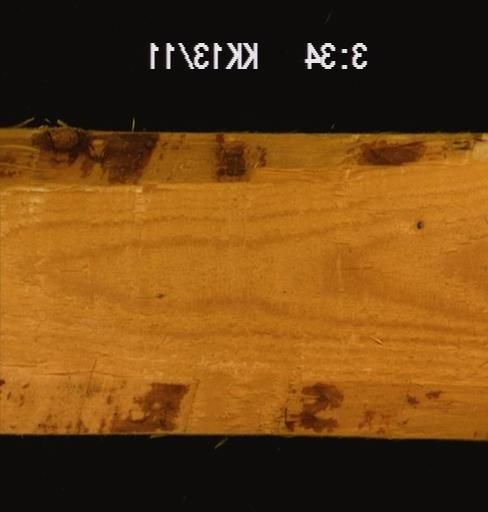small_knot: (415, 216, 424, 231)
wave: (0, 366, 486, 436), (0, 130, 486, 191)
